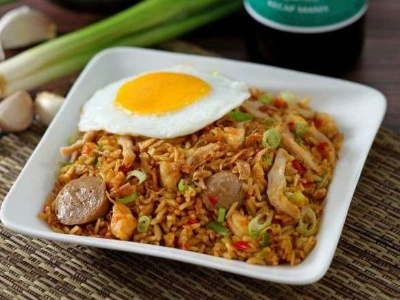nasigoreng: (64, 69, 327, 261)
